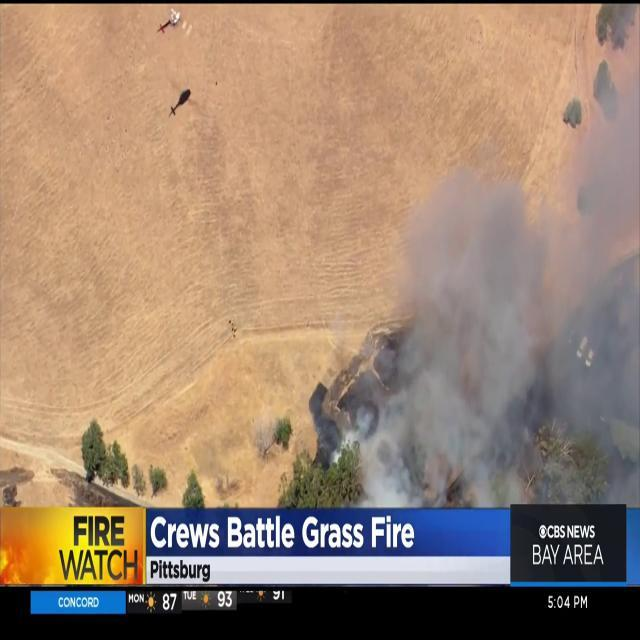Smoke: (354, 5, 640, 503)
